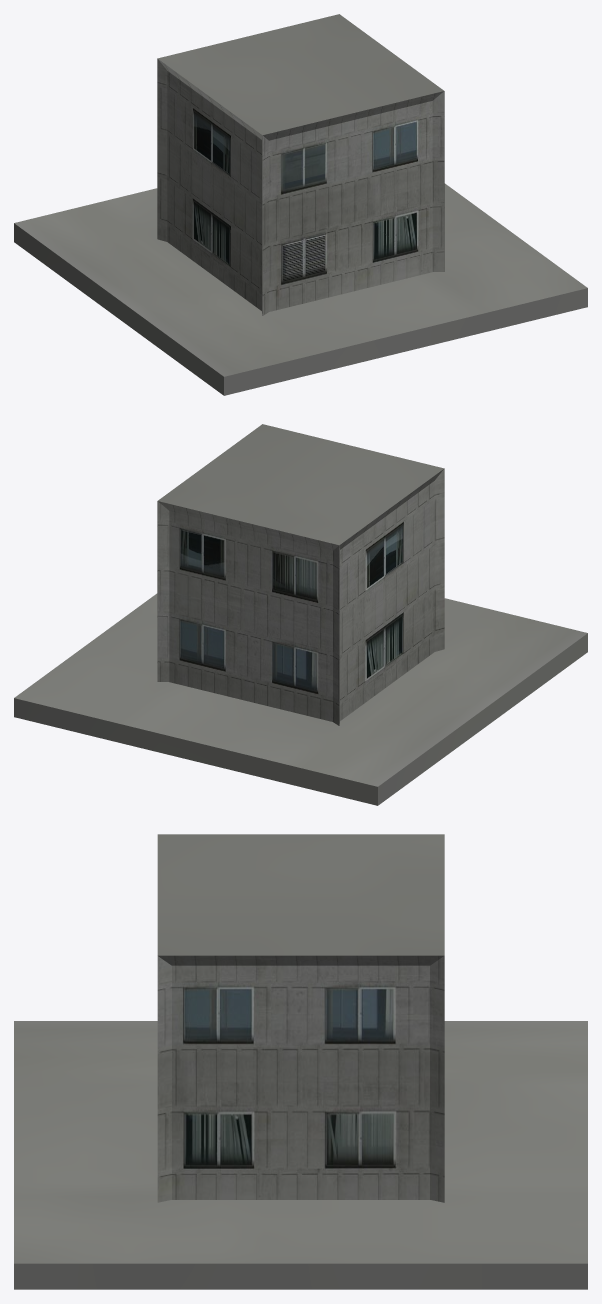
The picture shows the model from 3 angles, top to bottom: view 1: azimuth 30°, elevation 25°; view 2: azimuth 150°, elevation 25°; view 3: azimuth 270°, elevation 25°; orthographic projection. The views are drawn at different scales.
Parts seen in each view (by area): view 1: Cube; view 2: Cube; view 3: Cube.
Boxes of the visible parts, x1=… form: Cube: x1=14, y1=14, x2=587, y2=395; Cube: x1=14, y1=424, x2=587, y2=805; Cube: x1=14, y1=834, x2=587, y2=1289.
Bounding box in the file's own units: 8 × 8 × 4.2.
1 material, 1 textured.
